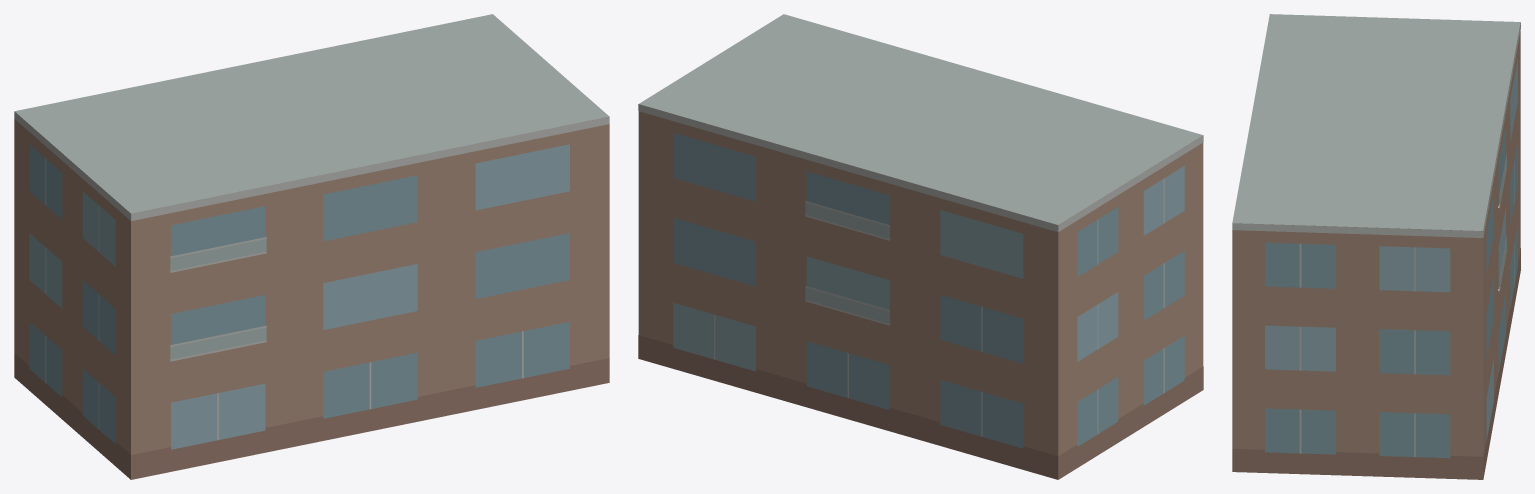
The model's file is survey-upis-32495179.glb.
The picture shows the model from 3 angles, left to right: view 1: azimuth 30°, elevation 25°; view 2: azimuth 150°, elevation 25°; view 3: azimuth 270°, elevation 25°; orthographic projection. The views are drawn at different scales.
Parts seen in each view (by area): view 1: survey-upis-32495179.tmp; view 2: survey-upis-32495179.tmp; view 3: survey-upis-32495179.tmp.
Part boxes in pixels (box(x1,y1,x2,y2)): survey-upis-32495179.tmp: box(14, 14, 609, 479); survey-upis-32495179.tmp: box(638, 14, 1203, 479); survey-upis-32495179.tmp: box(1232, 14, 1520, 479).
Bounding box in the file's own units: 16.29 × 8.7 × 9.15.
